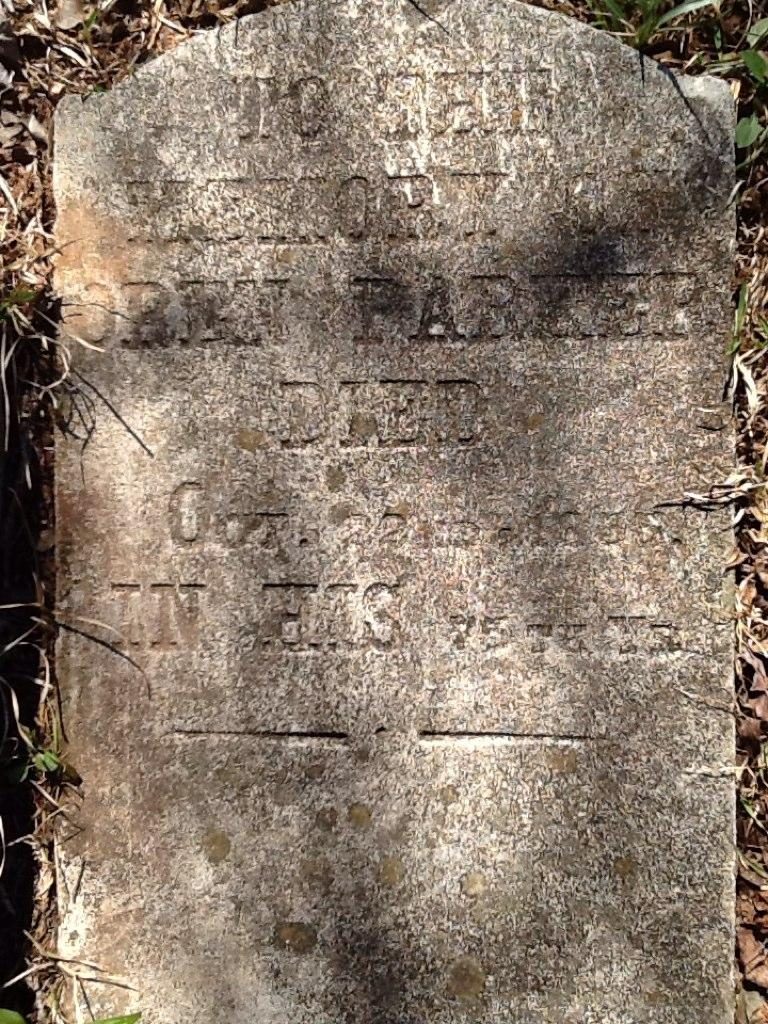upright: (24, 2, 765, 1024)
